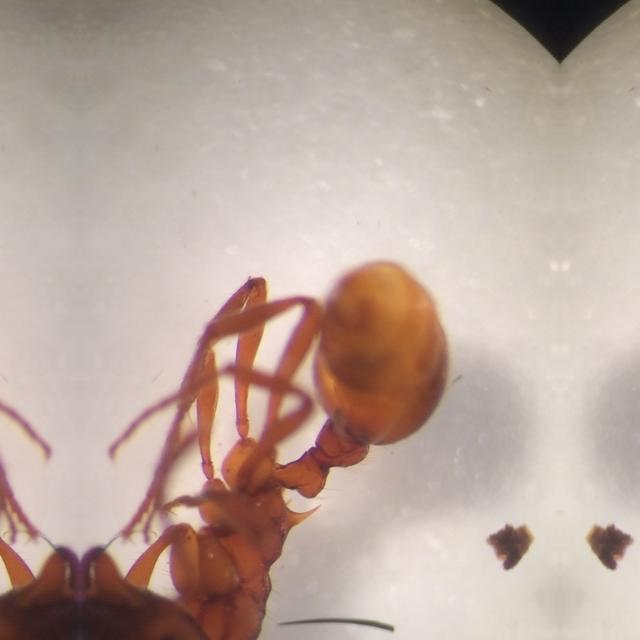Myrmica: (81, 189, 469, 636), (0, 188, 78, 635)
